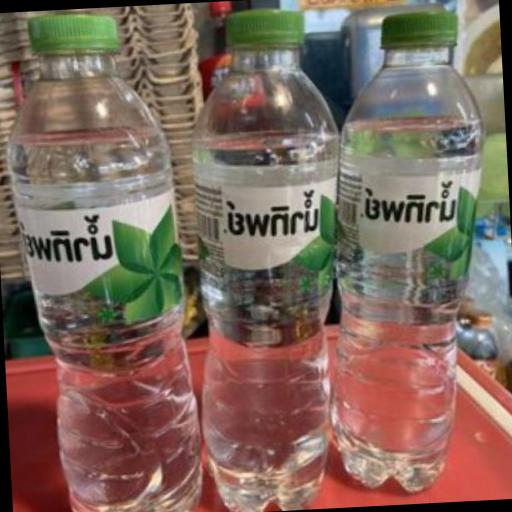Coca: (0, 3, 215, 512), (301, 0, 506, 506), (169, 2, 366, 512)
